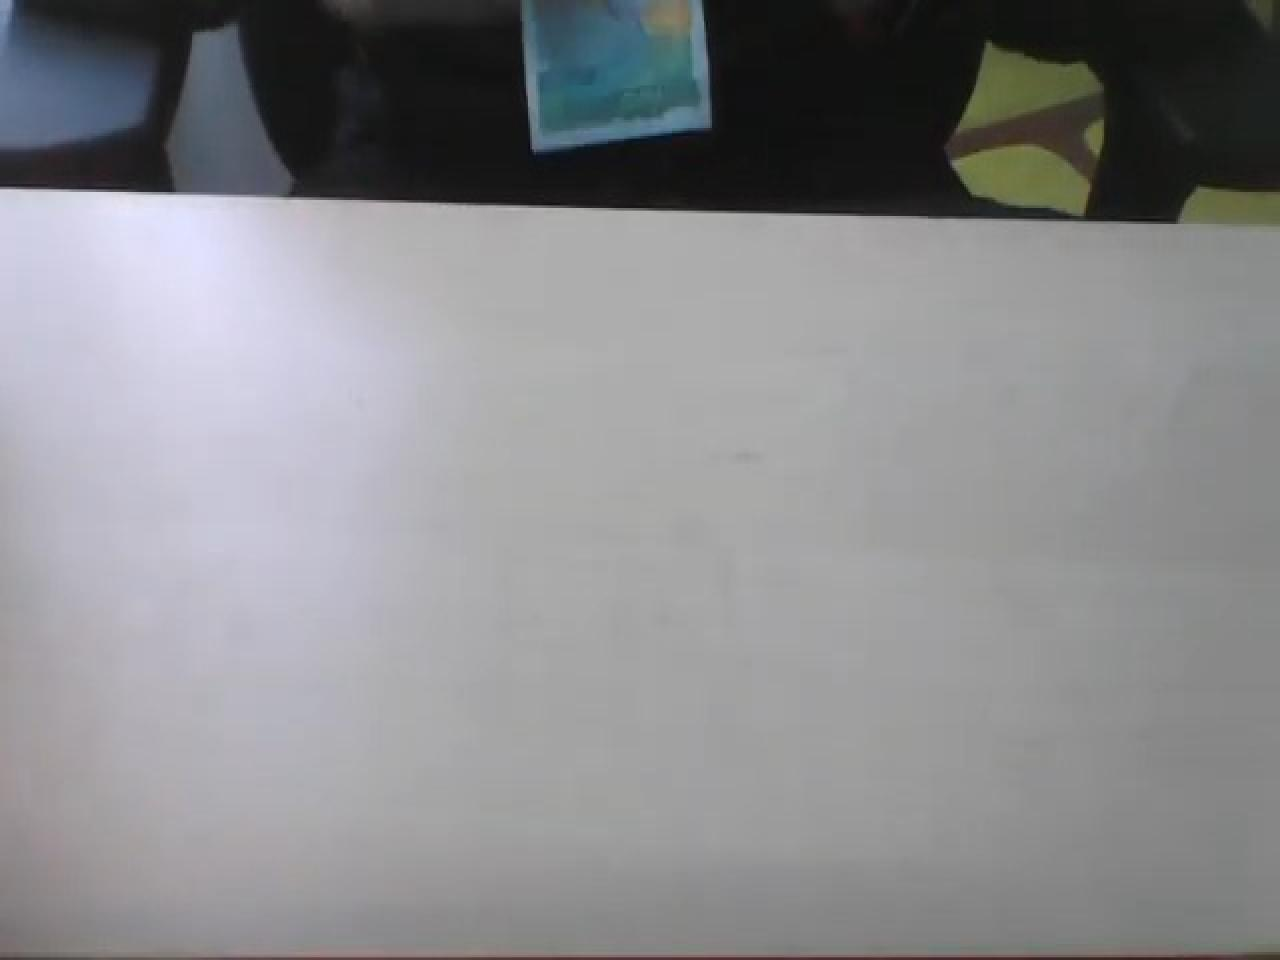100leva: (518, 0, 716, 154)
